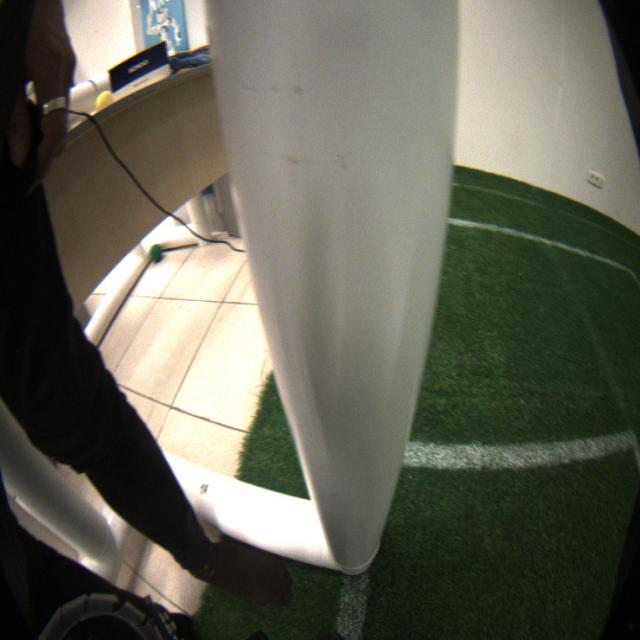goalpost: (166, 2, 498, 573)
